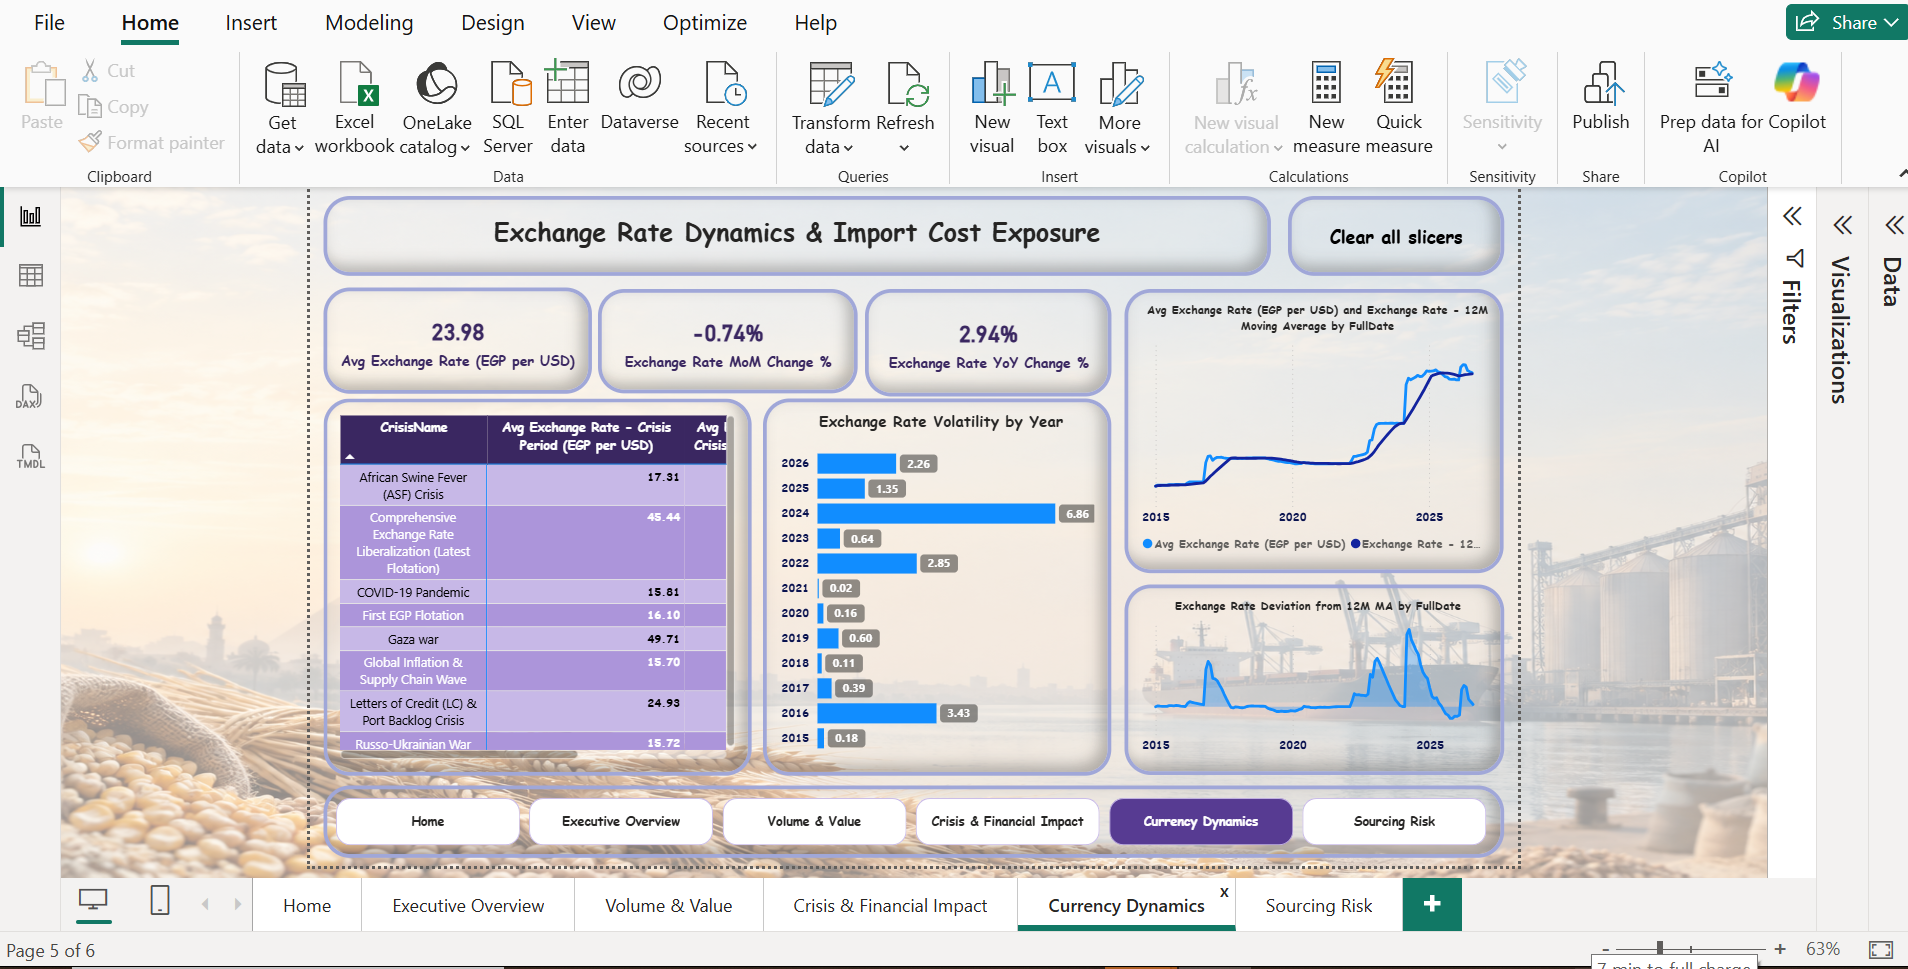

This screenshot's page, from the dashboard's own definition file:
{"tool":"powerbi","page":{"name":"Currency Dynamics","canvas":[1280,720],"ordinal":4},"visuals":[{"type":"textbox","box":[14.6,8.8,1004.7,84.6],"z":0},{"type":"actionButton","box":[1036.8,8.8,229.5,84.6],"z":1000},{"type":"pageNavigator","box":[14.6,635.1,1251.8,76.8],"z":2000},{"type":"card","fields":{"Values":["_Measures.Avg Exchange Rate (EGP per USD)"]},"box":[14.6,106,285,112.8],"z":3000},{"type":"card","fields":{"Values":["_Measures.Exchange Rate MoM Change %"]},"box":[305.4,108,275.3,110.9],"z":4000},{"type":"card","fields":{"Values":["_Measures.Exchange Rate YoY Change %"]},"box":[588.4,108,261.6,113.8],"z":5000},{"type":"areaChart","fields":{"Category":["DimDate.FullDate"],"Y":["_Measures.Exchange Rate Deviation from 12M MA"]},"box":[863.7,422.1,402.7,202.3],"z":6000},{"type":"lineChart","fields":{"Category":["DimDate.FullDate"],"Y":["_Measures.Avg Exchange Rate (EGP per USD)","_Measures.Exchange Rate - 12M Moving Average"]},"box":[863.7,108,401.7,301.5],"z":7000},{"type":"clusteredBarChart","fields":{"Category":["DimYear.Year"],"Y":["_Measures.Exchange Rate Volatility"]},"box":[480.5,224.7,369.6,399.8],"z":8000},{"type":"pivotTable","fields":{"Rows":["DimCrisis.CrisisName"],"Values":["_Measures.Avg Exchange Rate - Crisis Period (EGP per USD)","_Measures.Avg Exchange Rate - Non-Crisis Period (EGP per USD)"]},"box":[14.6,224.7,454.2,399.8],"z":9000}]}

Visuals, with their boxes on the page's 1280x720 design canvas (x1, y1, x2, y2). These are canvas units, not pixel positions in the 1908x969 screenshot, which may show the page scaled, cropped or inside an application window:
textbox: (x1=15, y1=9, x2=1019, y2=93)
actionButton: (x1=1037, y1=9, x2=1266, y2=93)
pageNavigator: (x1=15, y1=635, x2=1266, y2=712)
card - _Measures.Avg Exchange Rate (EGP per USD): (x1=15, y1=106, x2=300, y2=219)
card - _Measures.Exchange Rate MoM Change %: (x1=305, y1=108, x2=581, y2=219)
card - _Measures.Exchange Rate YoY Change %: (x1=588, y1=108, x2=850, y2=222)
areaChart - DimDate.FullDate x _Measures.Exchange Rate Deviation from 12M MA: (x1=864, y1=422, x2=1266, y2=624)
lineChart - DimDate.FullDate x _Measures.Avg Exchange Rate (EGP per USD): (x1=864, y1=108, x2=1265, y2=410)
clusteredBarChart - DimYear.Year x _Measures.Exchange Rate Volatility: (x1=480, y1=225, x2=850, y2=624)
pivotTable - DimCrisis.CrisisName x _Measures.Avg Exchange Rate - Crisis Period (EGP per USD): (x1=15, y1=225, x2=469, y2=624)
